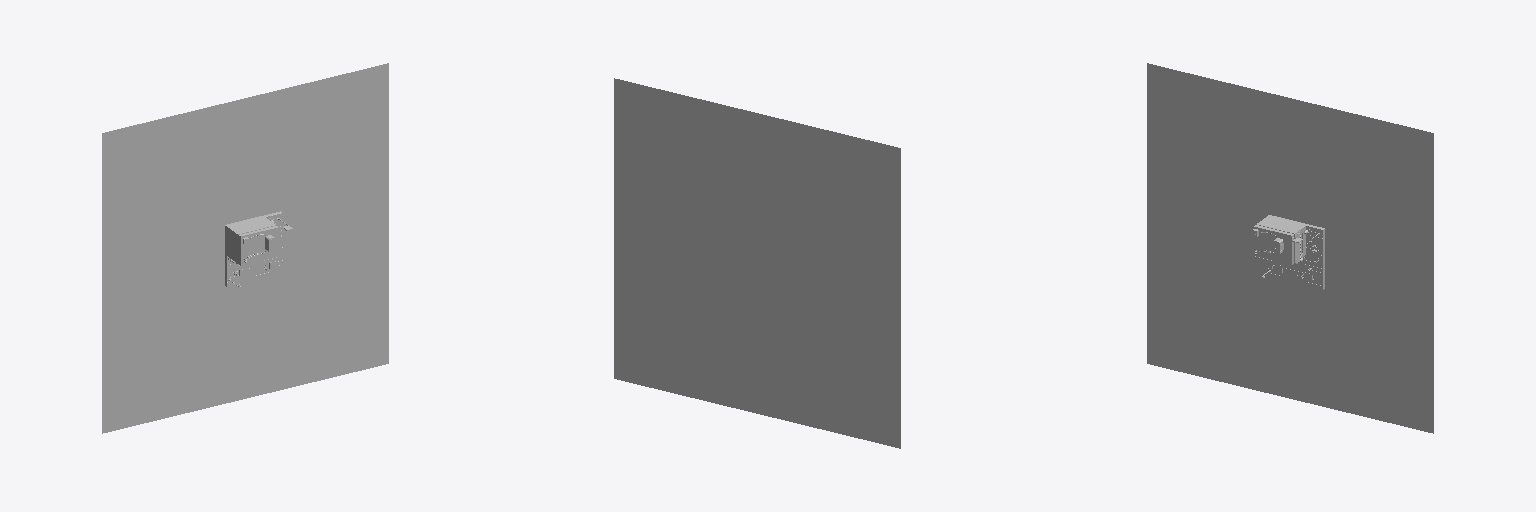
The model's file is casa pixel.obj.
The picture shows the model from 3 angles: view 1: azimuth 30°, elevation 25°; view 2: azimuth 150°, elevation 25°; view 3: azimuth 330°, elevation 25°; orthographic projection.
Visible parts, largest first — view 1: obj56, obj1, obj2; view 2: obj56, obj2; view 3: obj56, obj2, obj1.
Boxes of the visible parts, x1=… form: obj56: x1=102, y1=63, x2=388, y2=433; obj1: x1=227, y1=217, x2=280, y2=266; obj2: x1=225, y1=211, x2=282, y2=286; obj56: x1=614, y1=78, x2=900, y2=448; obj2: x1=723, y1=227, x2=778, y2=299; obj56: x1=1147, y1=63, x2=1433, y2=433; obj2: x1=1267, y1=215, x2=1324, y2=289; obj1: x1=1252, y1=216, x2=1305, y2=265.
Bounding box in the file's own units: 23.43 × 23.43 × 2.91.